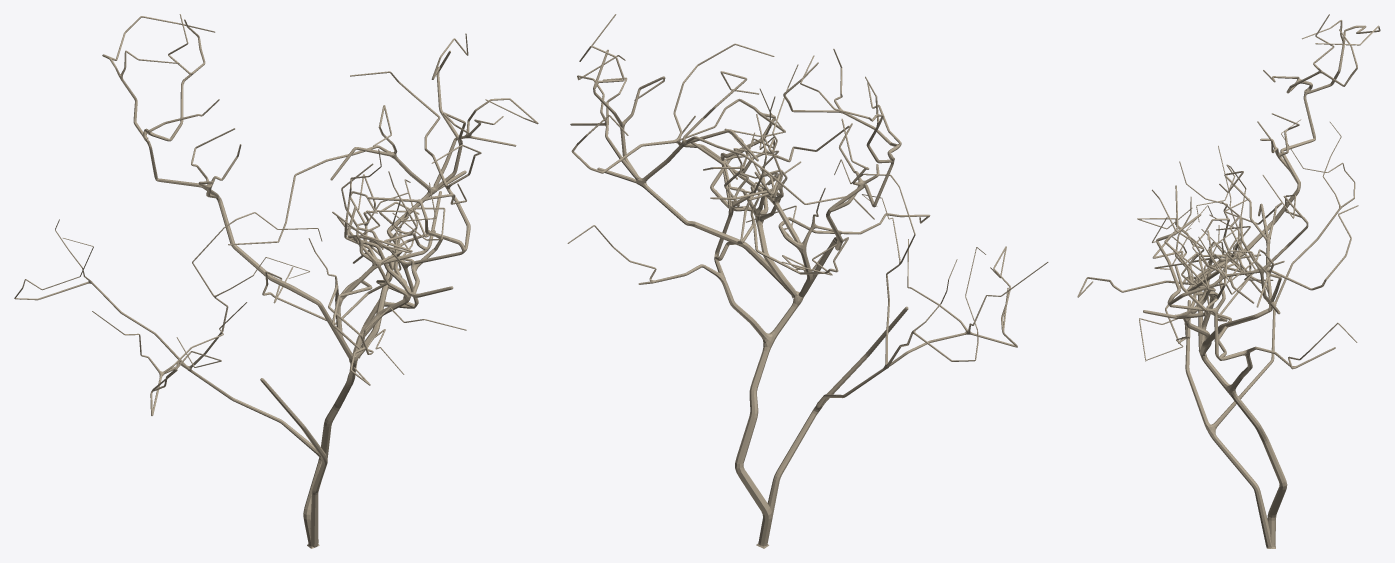
3 renders of one model, left to right at view 1: azimuth 30°, elevation 25°; view 2: azimuth 150°, elevation 25°; view 3: azimuth 270°, elevation 25°, orthographic. The views are drawn at different scales.
Visible parts, largest first — view 1: Arbusto; view 2: Arbusto; view 3: Arbusto.
Part boxes in pixels (x1,y1,x2,y2): Arbusto: [14, 14, 538, 548]; Arbusto: [567, 14, 1048, 548]; Arbusto: [1077, 14, 1380, 548].
Size of the model in its own units: 2.71 by 3.03 by 1.7.
